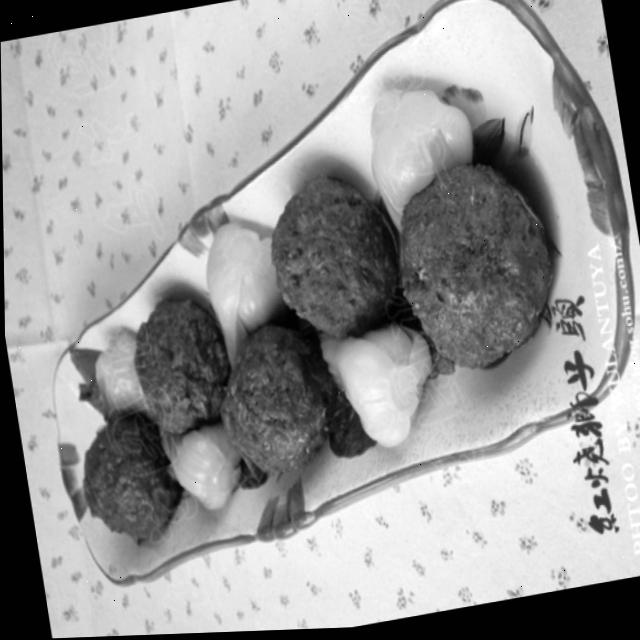猪肉菜式: (2, 44, 637, 613)
